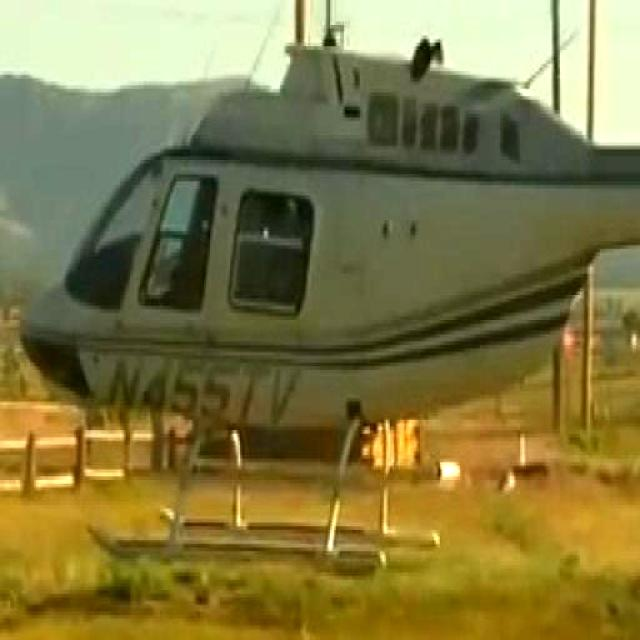drone: (10, 0, 640, 569)
